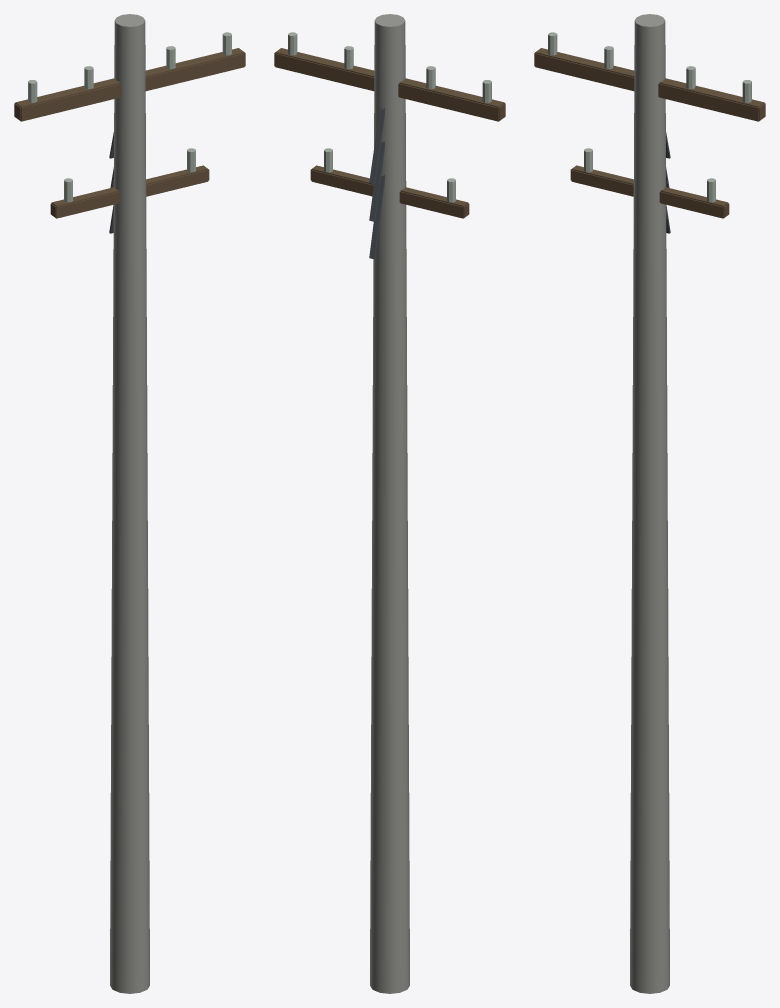
Rendered from power_pole.glb.
3 views of the same model, side by side, from view 1: azimuth 30°, elevation 25°; view 2: azimuth 150°, elevation 25°; view 3: azimuth 330°, elevation 25° (orthographic).
Visible parts, largest first — view 1: pole_mesh; view 2: pole_mesh; view 3: pole_mesh.
Part boxes in pixels (<box>): pole_mesh: <box>14,14,245,993</box>; pole_mesh: <box>274,14,505,993</box>; pole_mesh: <box>534,14,765,993</box>.
Size of what is drawn, in the model's own units: 2.2 by 9 by 0.4792.
